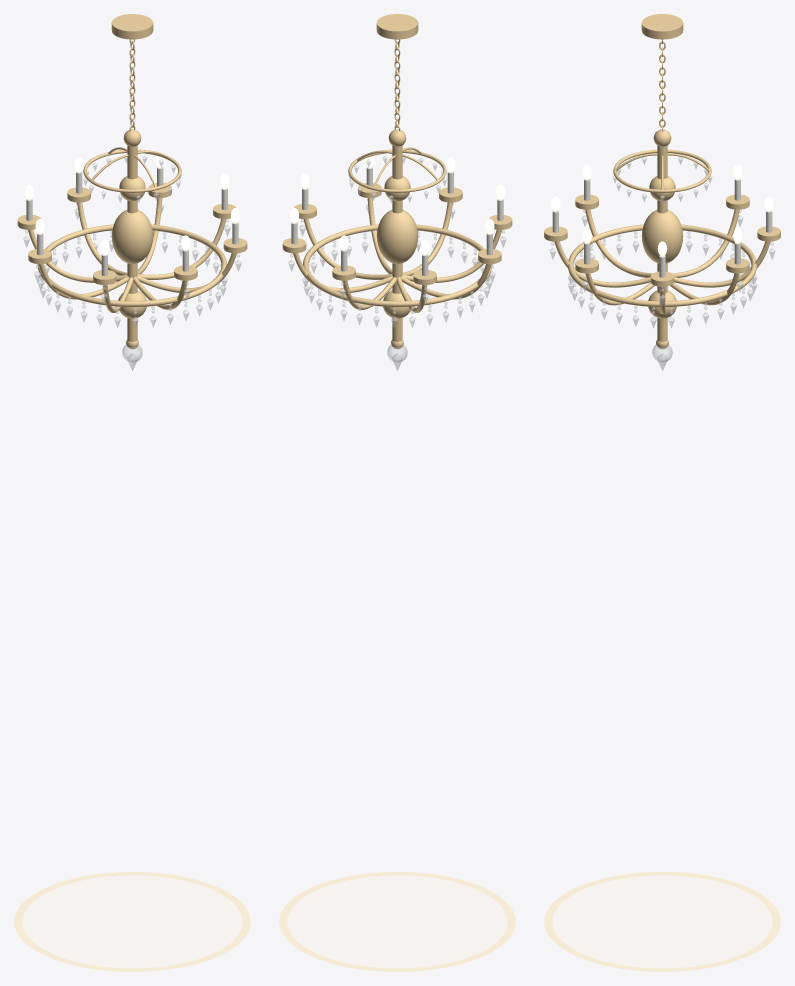
3 views of the same model, side by side, from view 1: azimuth 30°, elevation 25°; view 2: azimuth 150°, elevation 25°; view 3: azimuth 270°, elevation 25° (orthographic).
Parts seen in each view (by area): view 1: Brass frame, Crystals, Ring, Candle sleeves, Bulbs; view 2: Brass frame, Crystals, Ring, Candle sleeves, Bulbs; view 3: Brass frame, Crystals, Ring, Candle sleeves, Bulbs.
Boxes of the visible parts, x1=… form: Brass frame: x1=17, y1=14, x2=247, y2=349; Crystals: x1=23, y1=156, x2=241, y2=370; Ring: x1=14, y1=872, x2=250, y2=971; Candle sleeves: x1=26, y1=167, x2=238, y2=276; Bulbs: x1=25, y1=155, x2=239, y2=254; Brass frame: x1=282, y1=14, x2=512, y2=349; Crystals: x1=288, y1=156, x2=506, y2=370; Ring: x1=279, y1=872, x2=515, y2=971; Candle sleeves: x1=291, y1=167, x2=503, y2=276; Bulbs: x1=290, y1=155, x2=504, y2=254; Brass frame: x1=544, y1=14, x2=780, y2=349; Crystals: x1=549, y1=157, x2=775, y2=370; Ring: x1=544, y1=872, x2=780, y2=971; Candle sleeves: x1=552, y1=178, x2=772, y2=277; Bulbs: x1=551, y1=164, x2=773, y2=256.
Bounding box in the file's own units: 0.8 × 3.35 × 0.8.
